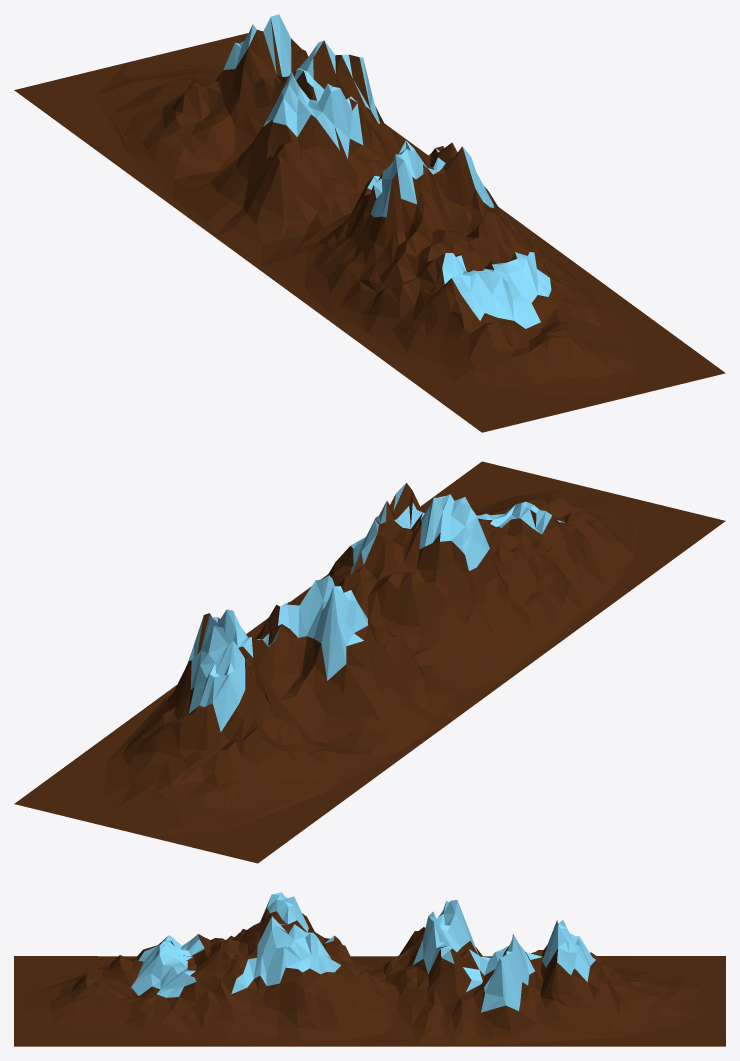
Rendered from mountain02.fbx.
3 renders of one model, top to bottom at view 1: azimuth 30°, elevation 25°; view 2: azimuth 150°, elevation 25°; view 3: azimuth 270°, elevation 25°, orthographic. The views are drawn at different scales.
Visible parts, largest first — view 1: Landscape; view 2: Landscape; view 3: Landscape.
Boxes of the visible parts, x1,y1,x2,y2 form: Landscape: [14, 14, 725, 432]; Landscape: [14, 461, 725, 863]; Landscape: [14, 892, 725, 1046].
Bounding box in the file's own units: 70.75 × 36.47 × 235.
